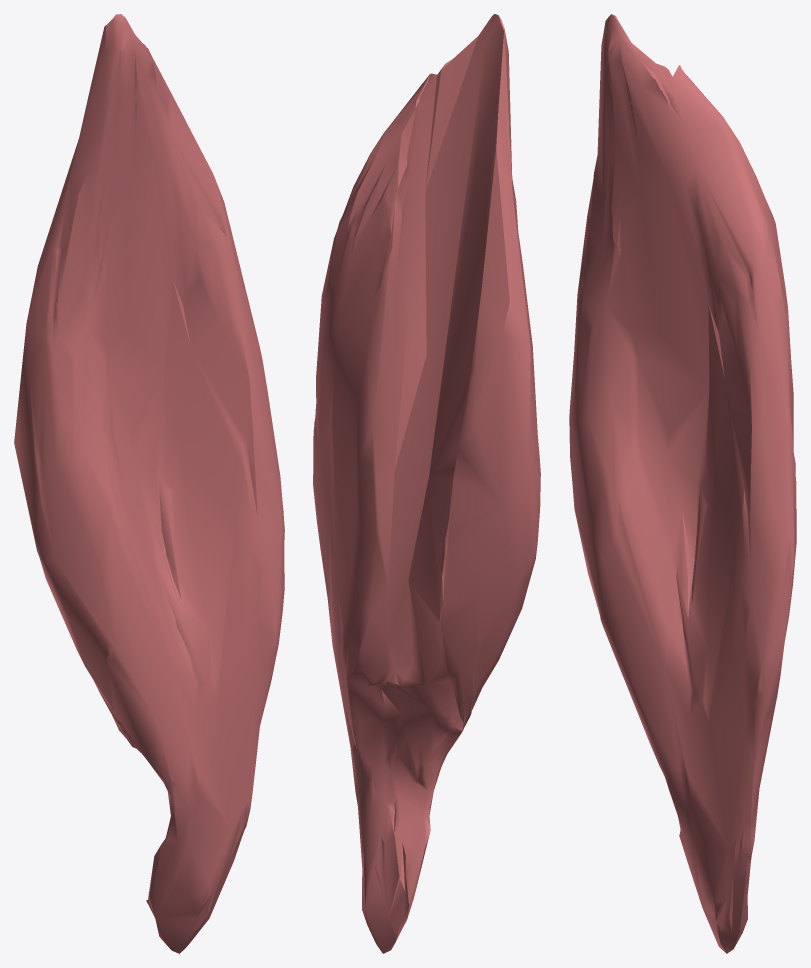
3 renders of one model, left to right at view 1: azimuth 30°, elevation 25°; view 2: azimuth 150°, elevation 25°; view 3: azimuth 330°, elevation 25°, orthographic. The views are drawn at different scales.
Parts seen in each view (by area): view 1: FJ1486M; view 2: FJ1486M; view 3: FJ1486M.
Boxes of the visible parts, bbox=[...] form: FJ1486M: bbox=[14, 14, 284, 953]; FJ1486M: bbox=[313, 14, 540, 953]; FJ1486M: bbox=[569, 14, 796, 953].
Bounding box in the file's own units: 0.0584 × 0.2236 × 0.0257.
